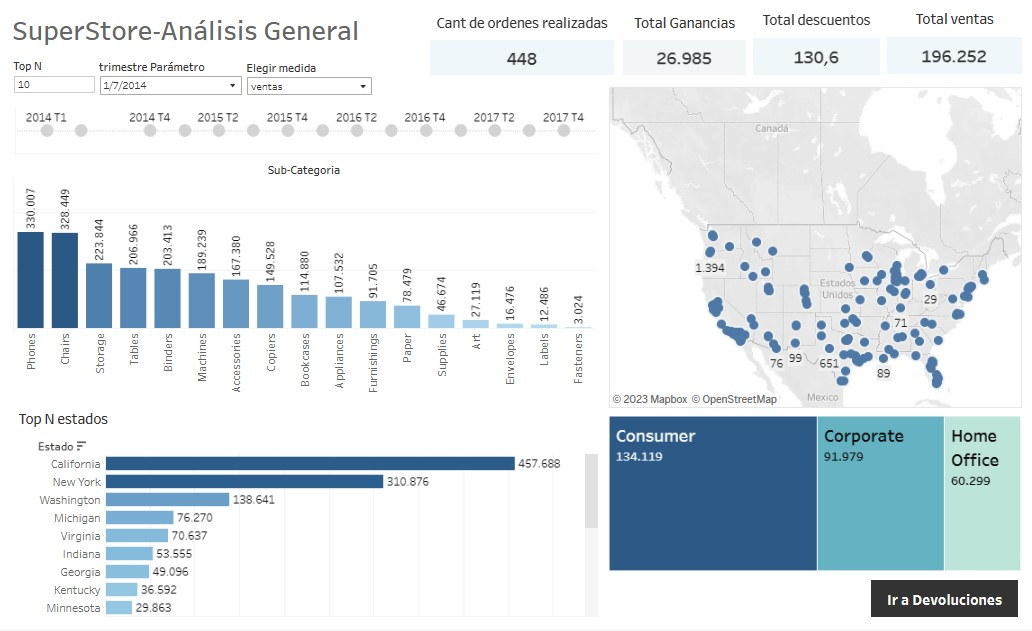

The dashboard page shown, as its layout file describes it:
{"tool":"tableau","page":{"name":"Dashboard 1","canvas":[1150,700],"ordinal":0},"visuals":[{"type":"worksheet","title":"Total ventas","mark":"Automatic","box":[989,5,150,78]},{"type":"worksheet","title":"Total descuentos","mark":"Automatic","box":[840,6,141,78]},{"type":"worksheet","title":"Cant de ordenes realizadas","mark":"Automatic","box":[481,9,205,75]},{"type":"worksheet","title":"Total Ganancias","mark":"Automatic","box":[696,9,136,76]},{"type":"text","box":[17,12,395,46]},{"type":"parameter","param":"[Parameters].[Parámetro 1]","box":[18,66,92,49]},{"type":"parameter","param":"[Parameters].[trimestre Parámetro]","box":[113,67,160,49]},{"type":"parameter","param":"[Parameters].[Parámetro 2]","box":[277,68,141,46]},{"type":"worksheet","title":"Mapa ventas","mark":"Automatic","box":[680,98,459,356]},{"type":"worksheet","title":"Linea trimestre","mark":"Circle","rows":["Calculation_884112969379733508"],"cols":["Calculation_884112969378291713"],"box":[20,120,646,53]},{"type":"worksheet","title":"Elegir medida","mark":"Automatic","rows":["Calculation_884112969376509952"],"cols":["Sub-Categoria"],"box":[18,179,646,267]},{"type":"worksheet","title":"Top N estados","mark":"Automatic","rows":["Estado"],"cols":["Calculation_884112969376509952"],"box":[20,449,651,238]},{"type":"worksheet","title":"ganancia por segmento","mark":"Automatic","box":[676,459,465,181]},{"type":"dashboard-object","box":[971,646,164,41]}]}

Visuals, with their boxes in screenshot pixels (x1, y1, x2, y2), scaled from the page's 1150x700 canvas onto the 1032x631 screenshot:
"Total ventas" worksheet: BBox(888, 5, 1022, 75)
"Total descuentos" worksheet: BBox(754, 5, 880, 76)
"Cant de ordenes realizadas" worksheet: BBox(432, 8, 616, 76)
"Total Ganancias" worksheet: BBox(625, 8, 747, 77)
text: BBox(15, 11, 370, 52)
parameter: BBox(16, 59, 99, 104)
parameter: BBox(101, 60, 245, 105)
parameter: BBox(249, 61, 375, 103)
"Mapa ventas" worksheet: BBox(610, 88, 1022, 409)
"Linea trimestre" worksheet (Circle marks): BBox(18, 108, 598, 156)
"Elegir medida" worksheet: BBox(16, 161, 596, 402)
"Top N estados" worksheet: BBox(18, 405, 602, 619)
"ganancia por segmento" worksheet: BBox(607, 414, 1024, 577)
dashboard-object: BBox(871, 582, 1019, 619)
